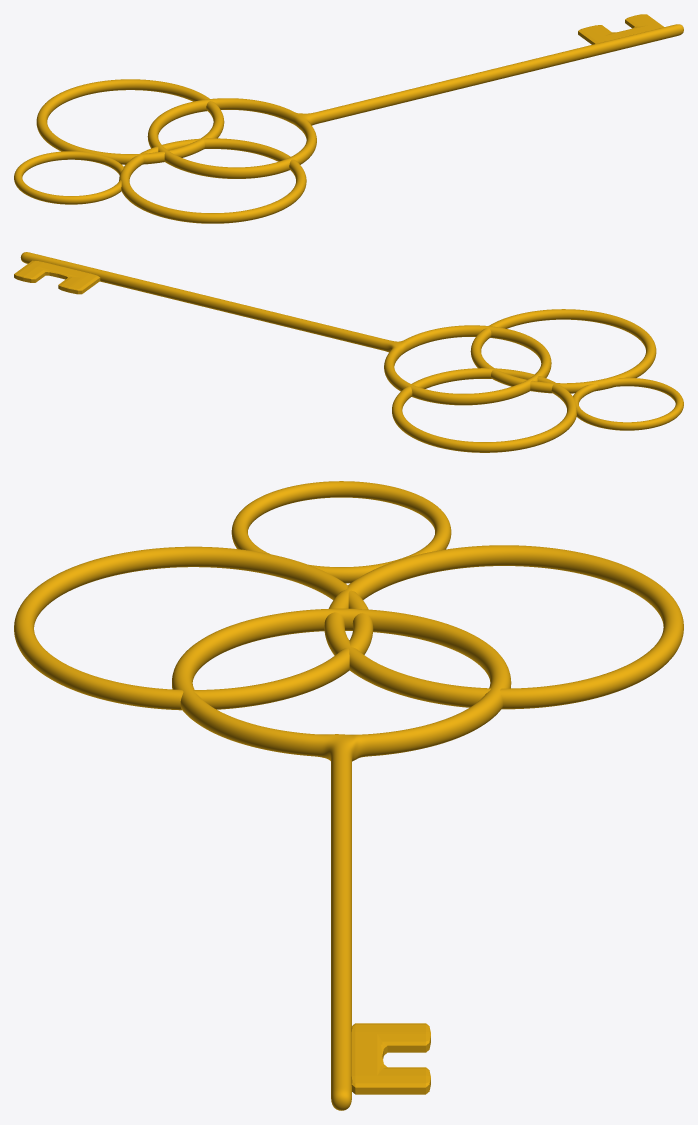
Rendered from Key.fbx.
3 views of the same model, one above another, from view 1: azimuth 30°, elevation 25°; view 2: azimuth 150°, elevation 25°; view 3: azimuth 270°, elevation 25° (orthographic). The views are drawn at different scales.
Visible parts, largest first — view 1: 円, 円.001, 円.002, 円.003, 立方体; view 2: 円, 円.002, 円.001, 円.003, 立方体; view 3: 円, 円.002, 円.001, 円.003, 立方体.
Part boxes in pixels (x1=…): 円: x1=147, y1=24, x2=683, y2=178; 円.001: x1=119, y1=138, x2=306, y2=223; 円.002: x1=36, y1=79, x2=224, y2=164; 円.003: x1=14, y1=151, x2=123, y2=204; 立方体: x1=578, y1=14, x2=664, y2=44; 円: x1=20, y1=252, x2=551, y2=405; 円.002: x1=392, y1=368, x2=576, y2=452; 円.001: x1=470, y1=309, x2=656, y2=393; 円.003: x1=573, y1=377, x2=683, y2=430; 立方体: x1=14, y1=260, x2=100, y2=294; 円: x1=172, y1=608, x2=511, y2=1110; 円.002: x1=324, y1=545, x2=683, y2=709; 円.001: x1=14, y1=546, x2=373, y2=710; 円.003: x1=231, y1=481, x2=451, y2=583; 立方体: x1=351, y1=1023, x2=430, y2=1094.
Size of the model in its own units: 431 by 6.99 by 197.
